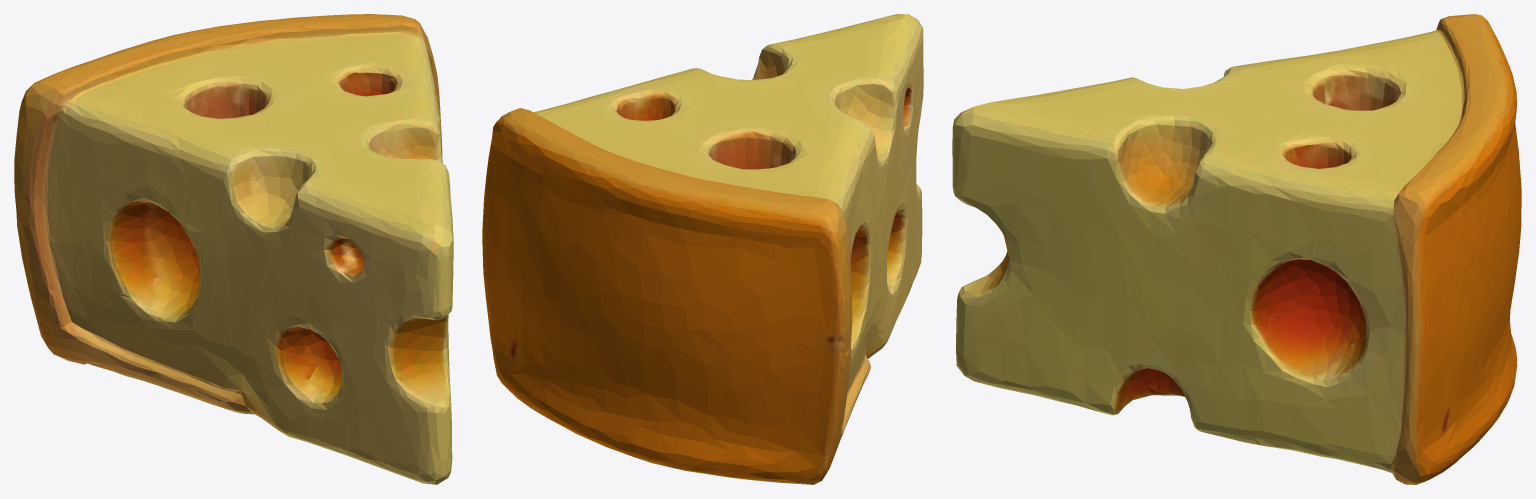
The model's file is bomb_cheese.glb.
3 renders of one model, left to right at view 1: azimuth 30°, elevation 25°; view 2: azimuth 150°, elevation 25°; view 3: azimuth 270°, elevation 25°, orthographic. The views are drawn at different scales.
Visible parts, largest first — view 1: tmponkesg_8.ply; view 2: tmponkesg_8.ply; view 3: tmponkesg_8.ply.
Boxes of the visible parts, x1,y1,x2,y2 form: tmponkesg_8.ply: [14, 14, 453, 484]; tmponkesg_8.ply: [482, 14, 923, 484]; tmponkesg_8.ply: [952, 14, 1521, 484].
Bounding box in the file's own units: 1.69 × 1.16 × 1.99.
Materials: 1 (1 with a texture image).
